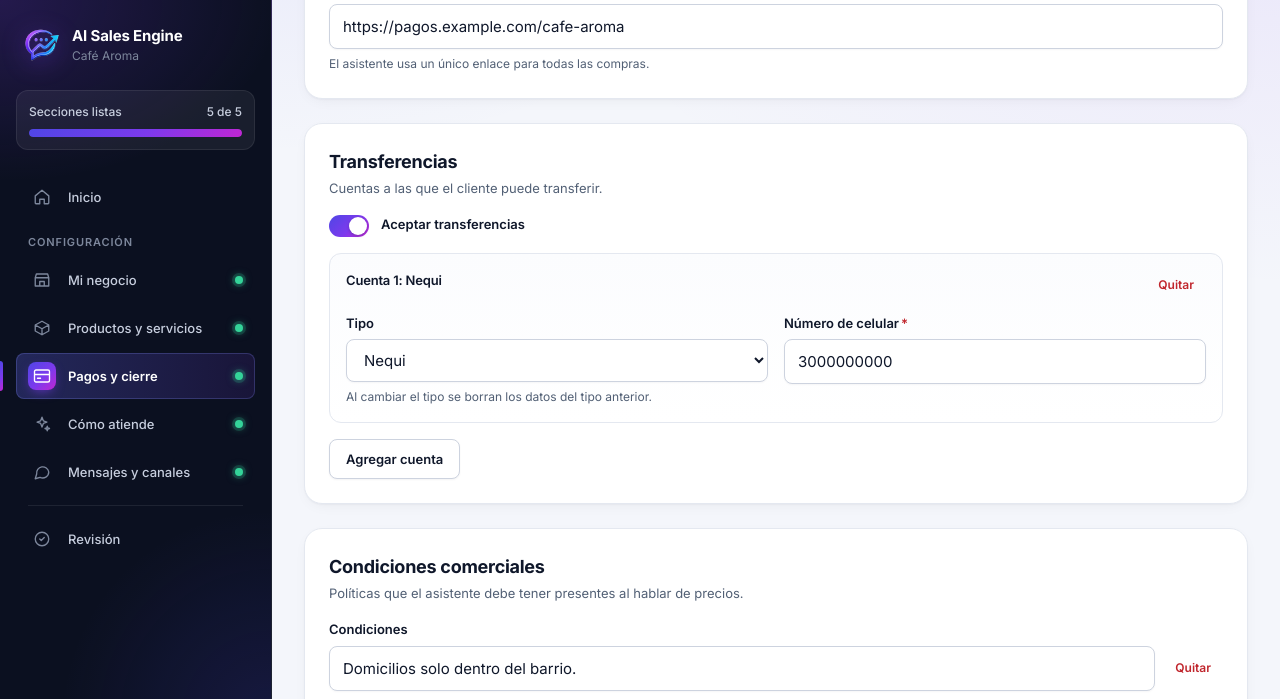
Panel de configuración › al cambiar el tipo de una cuenta borra los datos del tipo anterior
The image size is (1280, 699).
(page scrolled)
expect the field labelled "Número de celular*" holds "3000000000": met, box [784, 339, 1206, 384]
Step 1. Select "Cuenta bancaria" in the dropdown labelled "Tipo" → (557, 360), box [346, 339, 768, 382]
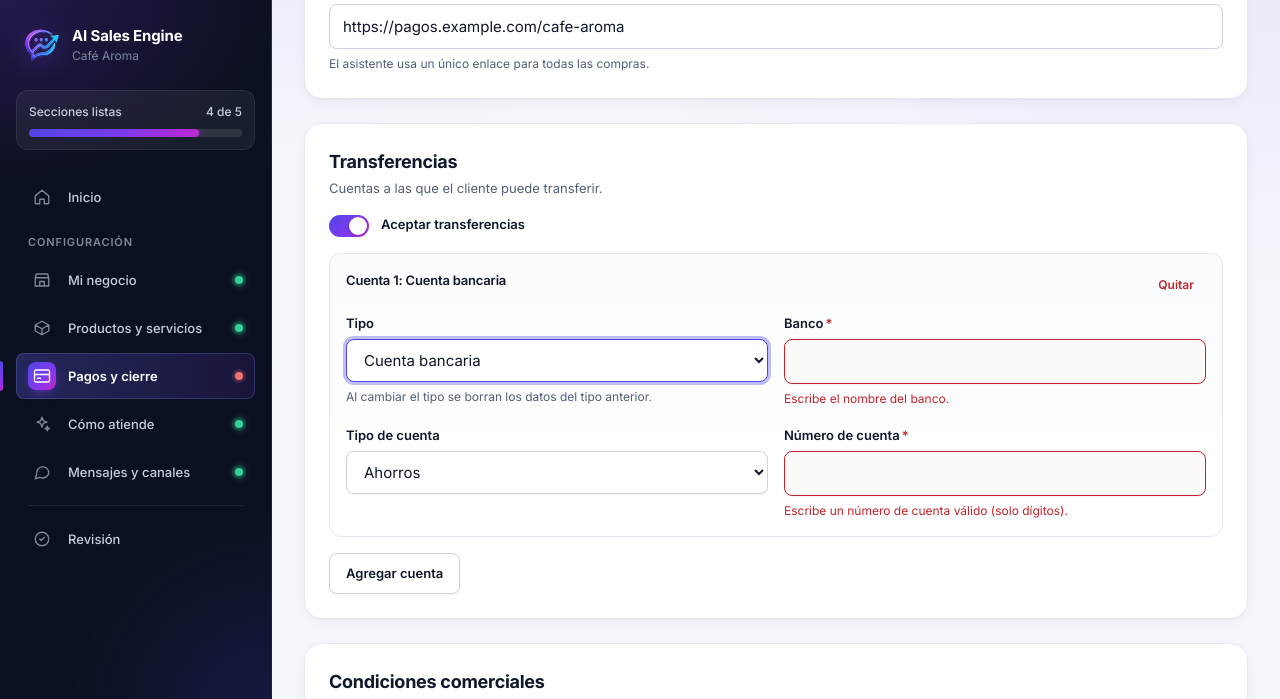
expect the label labelled "Número de celular" is gone: met
